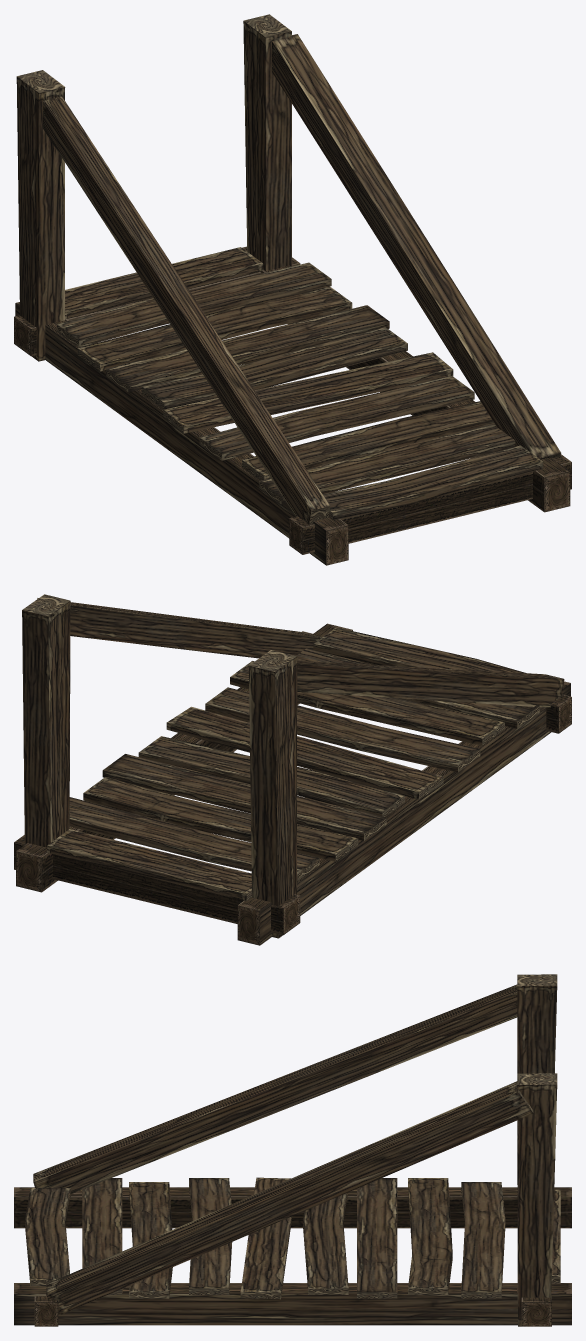
The model's file is Bridge_4X8_01.fbx.
3 renders of one model, top to bottom at view 1: azimuth 30°, elevation 25°; view 2: azimuth 150°, elevation 25°; view 3: azimuth 270°, elevation 25°, orthographic. The views are drawn at different scales.
Parts seen in each view (by area): view 1: Bridge_4X8_Deck_01, Bridge_4X8_Side_01, Bridge_4X8_Side_02; view 2: Bridge_4X8_Deck_01, Bridge_4X8_Side_02, Bridge_4X8_Side_01; view 3: Bridge_4X8_Deck_01, Bridge_4X8_Side_01, Bridge_4X8_Side_02.
Part boxes in pixels (x1,y1,x2,y2): Bridge_4X8_Deck_01: (14, 246, 571, 565); Bridge_4X8_Side_01: (243, 14, 561, 459); Bridge_4X8_Side_02: (16, 70, 330, 524); Bridge_4X8_Deck_01: (14, 623, 571, 945); Bridge_4X8_Side_02: (248, 650, 564, 938); Bridge_4X8_Side_01: (22, 594, 321, 847); Bridge_4X8_Deck_01: (14, 1177, 571, 1326); Bridge_4X8_Side_01: (46, 1073, 557, 1326); Bridge_4X8_Side_02: (33, 974, 557, 1193).
Bounding box in the file's own units: 4 × 3.82 × 8.
